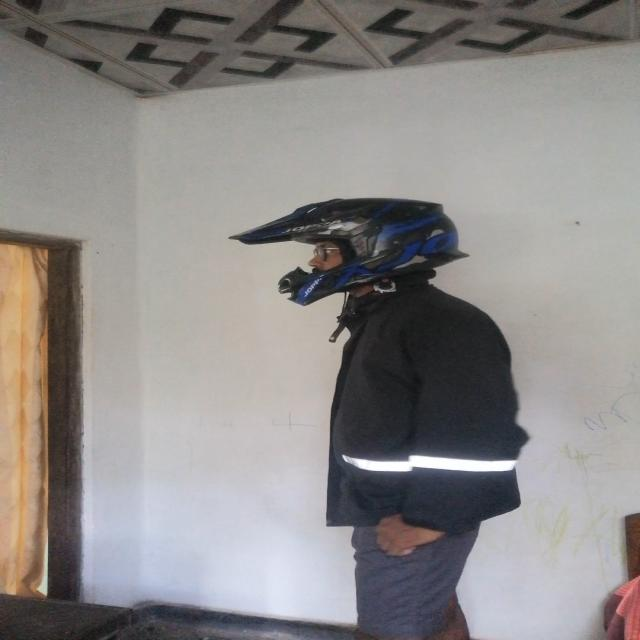Helmet_Wearer: (247, 191, 472, 293)
Jacket_Wearer: (259, 292, 561, 524)
